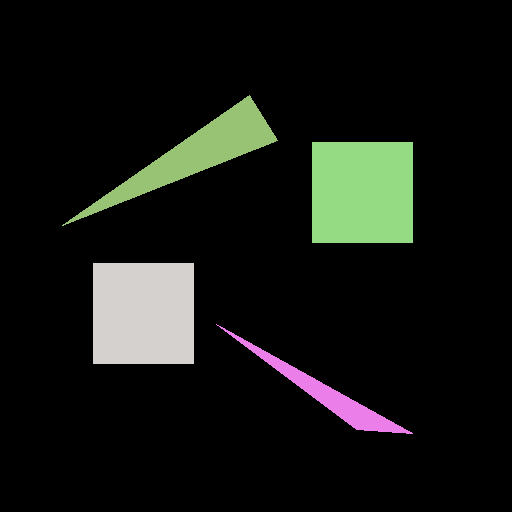square: (93, 263, 193, 363), (312, 142, 412, 242)
triangle: (62, 95, 277, 225), (216, 324, 412, 433)
